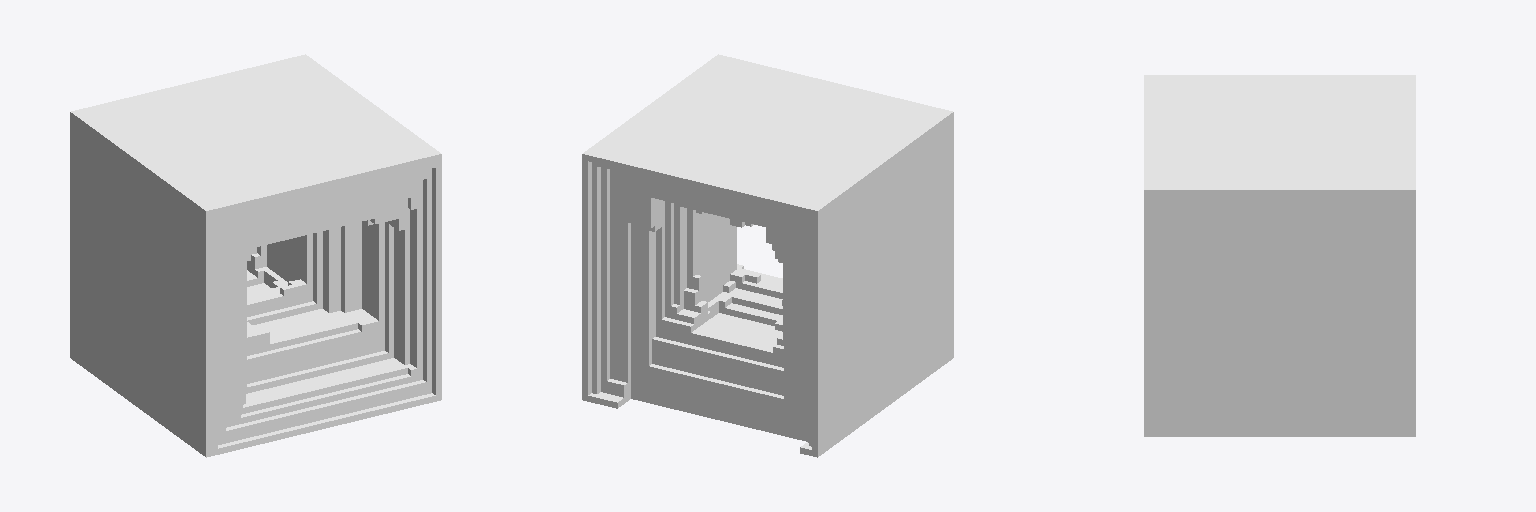
Rendered from SampleVoxCave.obj.
3 views of the same model, side by side, from view 1: azimuth 30°, elevation 25°; view 2: azimuth 150°, elevation 25°; view 3: azimuth 270°, elevation 25° (orthographic).
Parts seen in each view (by area): view 1: object 1; view 2: object 1; view 3: object 1.
Boxes of the visible parts, box(x1,y1,x2,y2) form: object 1: box(70, 54, 441, 457); object 1: box(582, 54, 953, 457); object 1: box(1144, 75, 1415, 436).
Size of the model in its own units: 4 by 4 by 4.